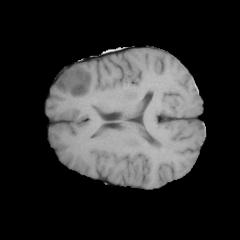glioma: (55, 66, 92, 97)
